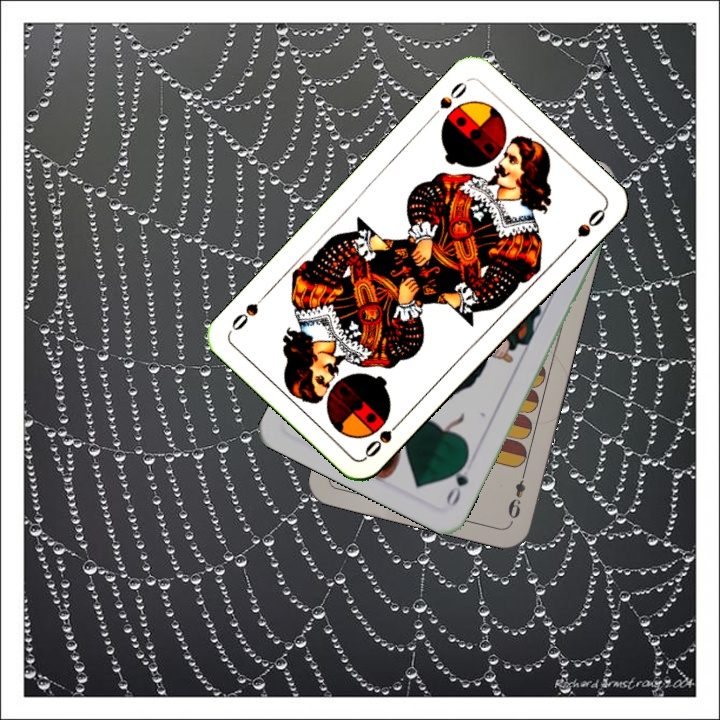E9: (504, 466, 529, 525)
GO: (442, 453, 471, 509)
SO: (360, 414, 407, 460), (425, 77, 470, 123)
